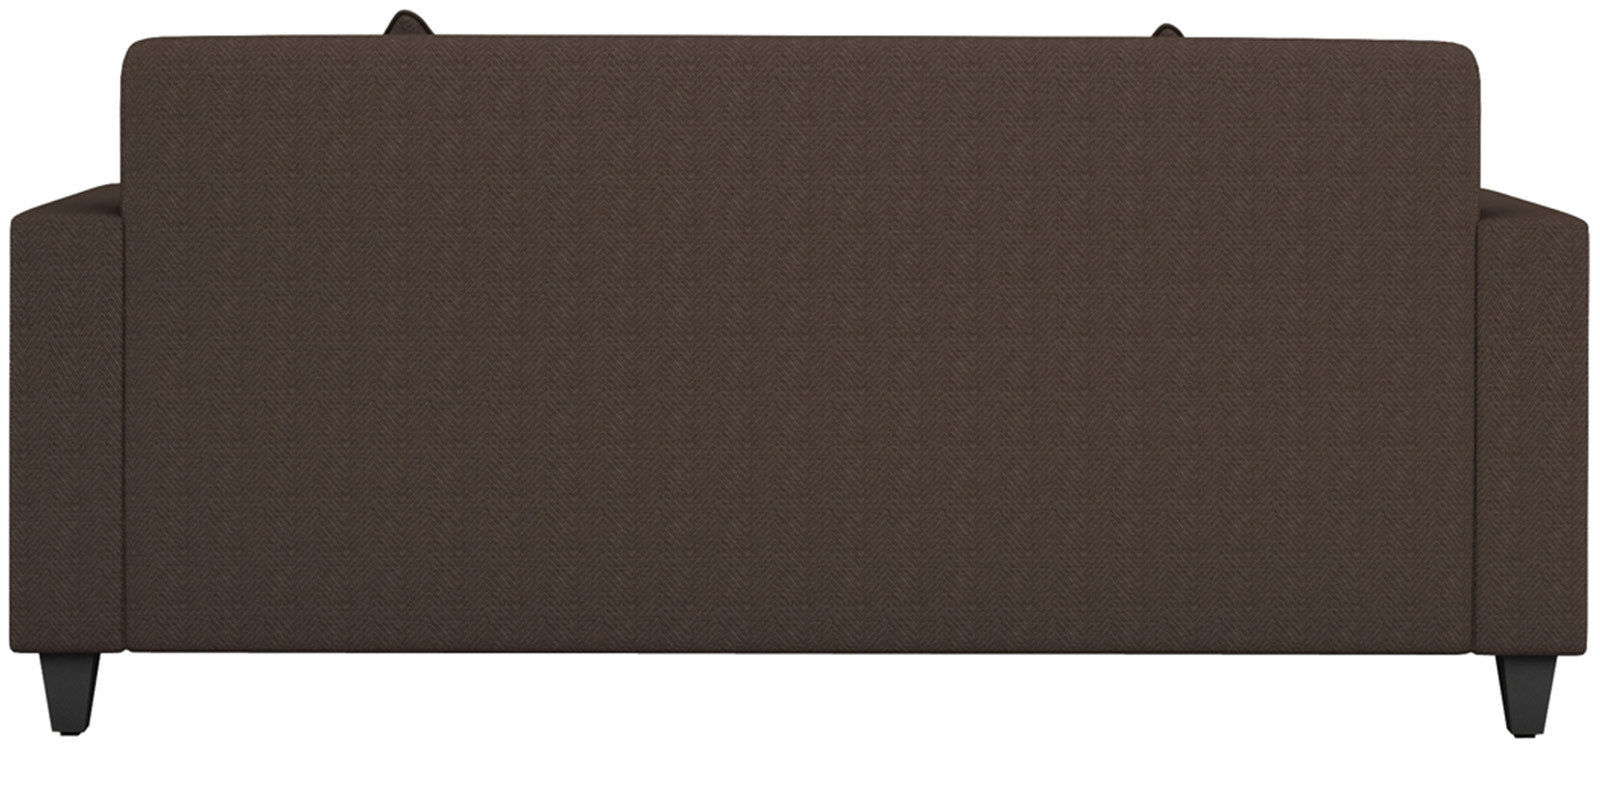Cooper Three Seater Sofa by ARRA: (4, 16, 1600, 738)
